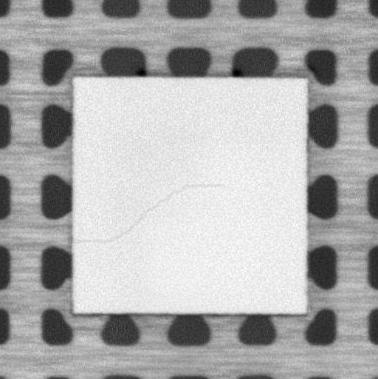DIE_CRACK: (73, 182, 225, 244)
